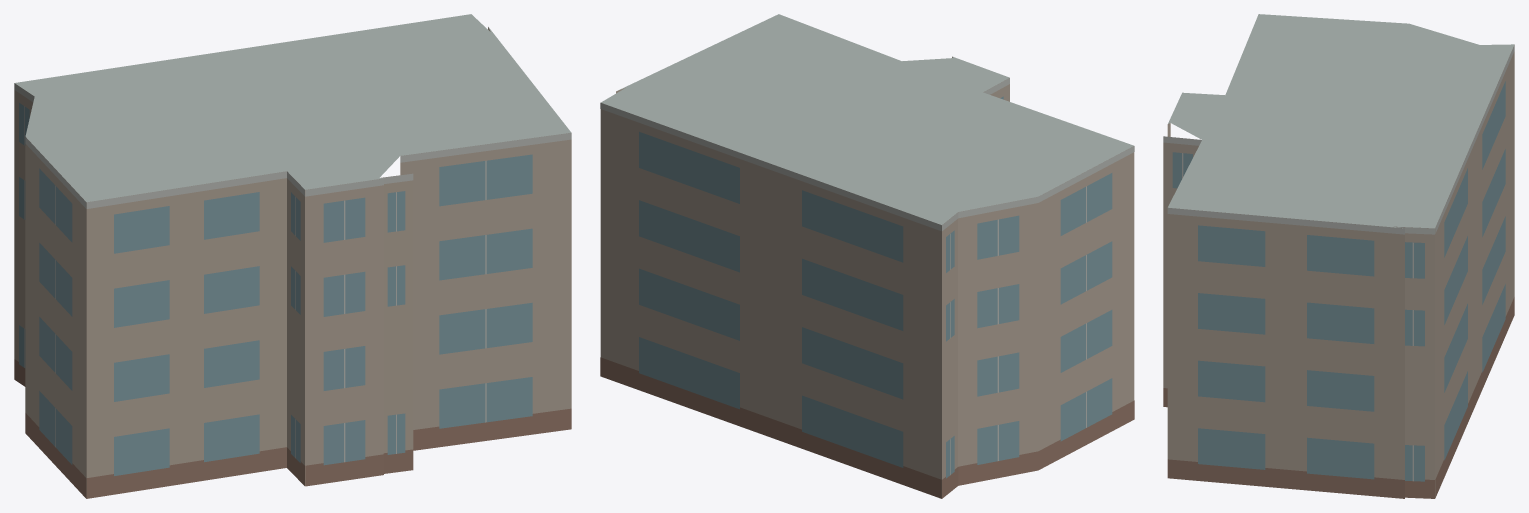
File: survey-upis-32528048.glb
3 renders of one model, left to right at view 1: azimuth 30°, elevation 25°; view 2: azimuth 150°, elevation 25°; view 3: azimuth 270°, elevation 25°, orthographic. The views are drawn at different scales.
Parts seen in each view (by area): view 1: survey-upis-32528048.tmp; view 2: survey-upis-32528048.tmp; view 3: survey-upis-32528048.tmp.
Part boxes in pixels (bbox=[...]): survey-upis-32528048.tmp: bbox=[14, 14, 571, 498]; survey-upis-32528048.tmp: bbox=[600, 14, 1134, 498]; survey-upis-32528048.tmp: bbox=[1163, 14, 1514, 498].
Size of the model in its own units: 18.03 by 10.6 by 12.48.
